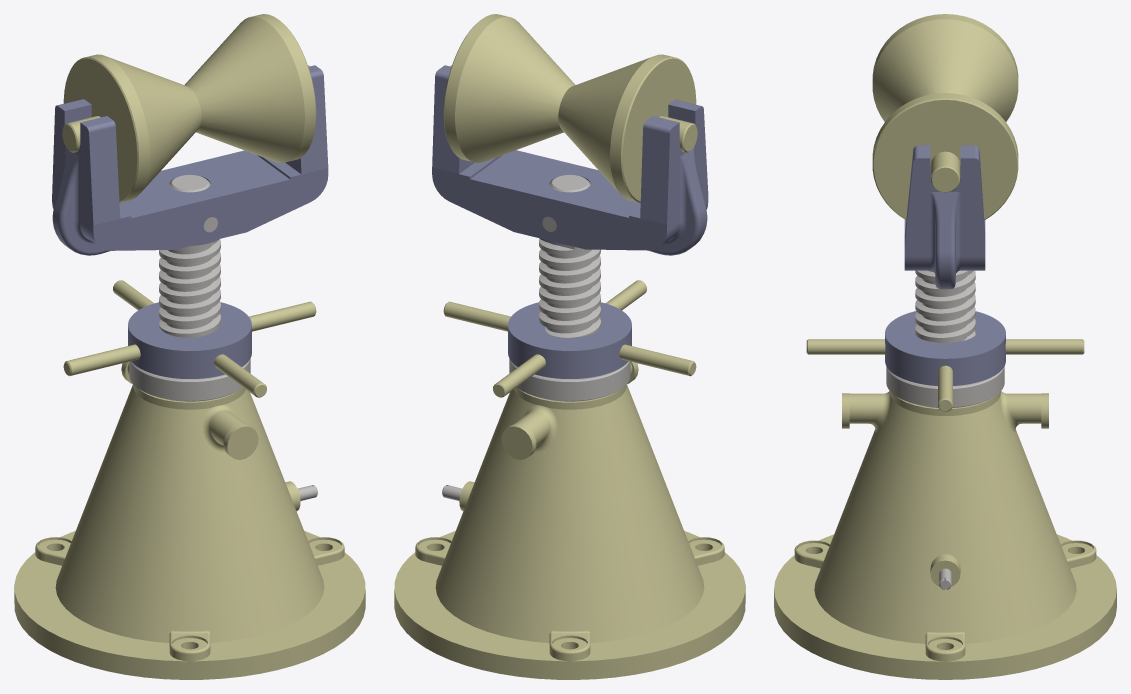
Rendered from Braket_Bahan_Untuk_Mesin_Gergaji_Dingin.glb.
3 views of the same model, side by side, from view 1: azimuth 30°, elevation 25°; view 2: azimuth 150°, elevation 25°; view 3: azimuth 270°, elevation 25° (orthographic). The views are drawn at different scales.
Visible parts, largest first — view 1: Solid1 (×9), Solid2; view 2: Solid1 (×9), Solid2; view 3: Solid1 (×8), Solid2.
Part boxes in pixels (<box>): Solid1 (×9): <box>14,14,365,679</box>; Solid2: <box>129,359,250,401</box>; Solid1 (×9): <box>394,14,745,679</box>; Solid2: <box>509,359,630,401</box>; Solid1 (×8): <box>774,14,1116,679</box>; Solid2: <box>886,366,1004,407</box>.
Size of the model in its own units: 0.4318 by 0.7969 by 0.4318.
